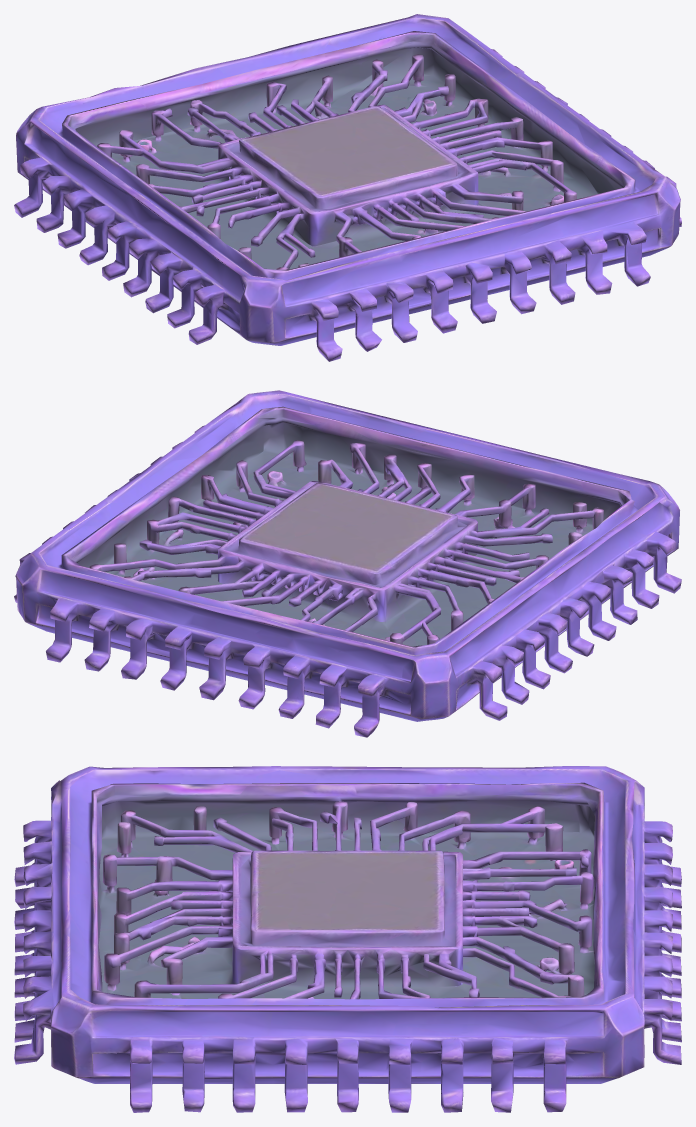
The model's file is chip.glb.
3 views of the same model, one above another, from view 1: azimuth 30°, elevation 25°; view 2: azimuth 150°, elevation 25°; view 3: azimuth 270°, elevation 25° (orthographic). The views are drawn at different scales.
Parts seen in each view (by area): view 1: tripo_node_621f7cf5-6247-442e-9c08-544dde76c1fb; view 2: tripo_node_621f7cf5-6247-442e-9c08-544dde76c1fb; view 3: tripo_node_621f7cf5-6247-442e-9c08-544dde76c1fb.
Part boxes in pixels (bbox=[...]): tripo_node_621f7cf5-6247-442e-9c08-544dde76c1fb: bbox=[14, 14, 681, 361]; tripo_node_621f7cf5-6247-442e-9c08-544dde76c1fb: bbox=[14, 390, 681, 737]; tripo_node_621f7cf5-6247-442e-9c08-544dde76c1fb: bbox=[14, 766, 681, 1112].
Size of the model in its own units: 0.9967 by 0.1469 by 1.
Materials: 1 (1 with a texture image).
